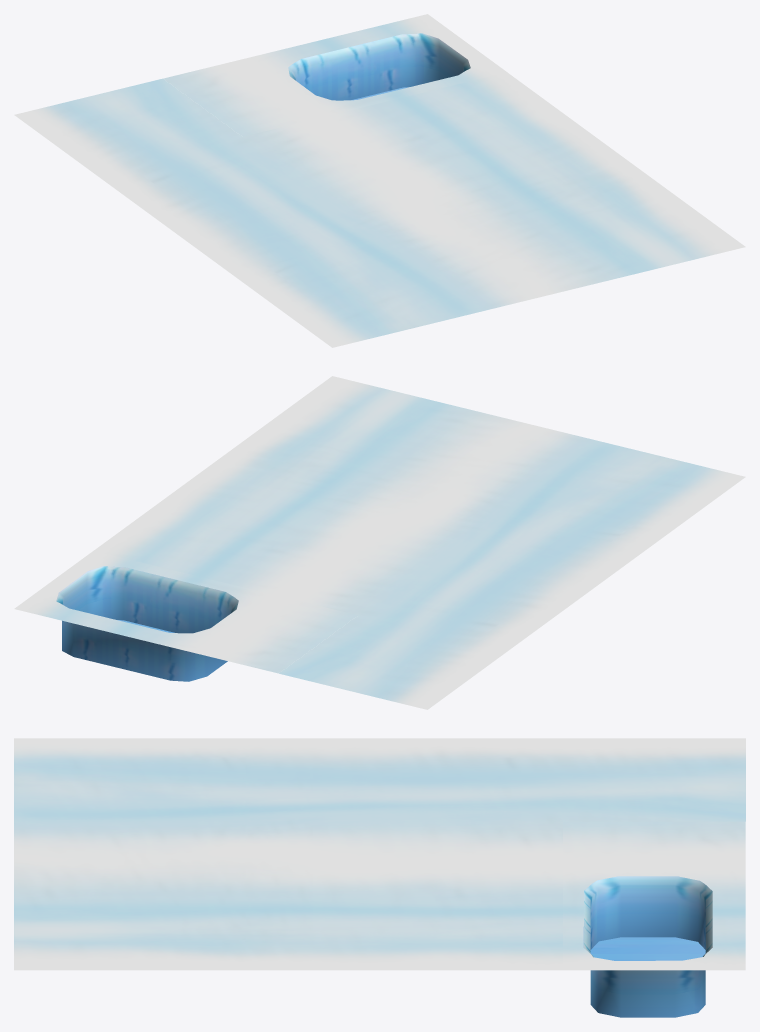
The model's file is Hole_M_Size_03.FBX.
The picture shows the model from 3 angles, top to bottom: view 1: azimuth 30°, elevation 25°; view 2: azimuth 150°, elevation 25°; view 3: azimuth 270°, elevation 25°; orthographic projection. The views are drawn at different scales.
Parts seen in each view (by area): view 1: Object113; view 2: Object113; view 3: Object113.
Part boxes in pixels (x1=…): Object113: x1=14, y1=14, x2=745, y2=347; Object113: x1=14, y1=376, x2=745, y2=709; Object113: x1=14, y1=738, x2=745, y2=1017.
Bounding box in the file's own units: 600 × 70 × 800.
